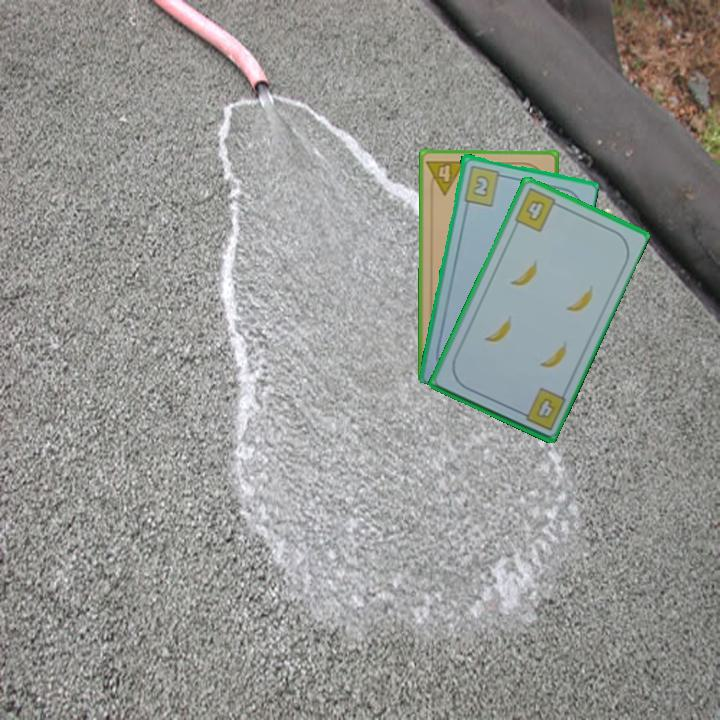2b: (460, 162, 508, 208)
4b: (510, 184, 564, 235), (514, 384, 568, 433)
4p: (423, 156, 468, 197)
